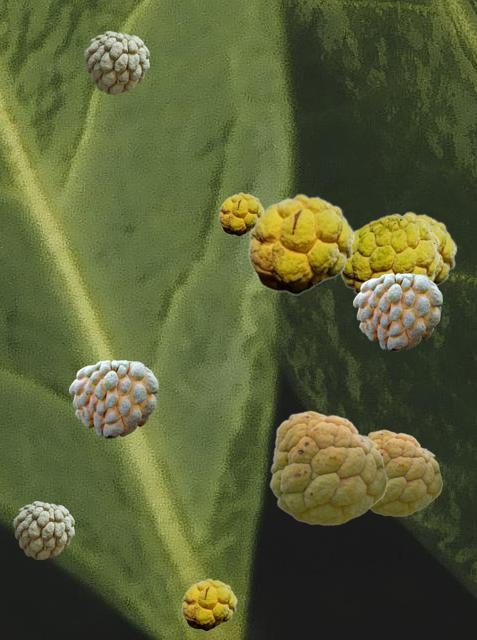atis: (269, 410, 386, 524), (247, 193, 354, 294), (340, 213, 439, 294), (353, 273, 441, 350), (69, 360, 157, 437), (367, 429, 441, 515), (402, 211, 456, 285), (84, 31, 148, 93), (13, 501, 73, 558), (181, 578, 236, 630), (218, 192, 263, 235)
